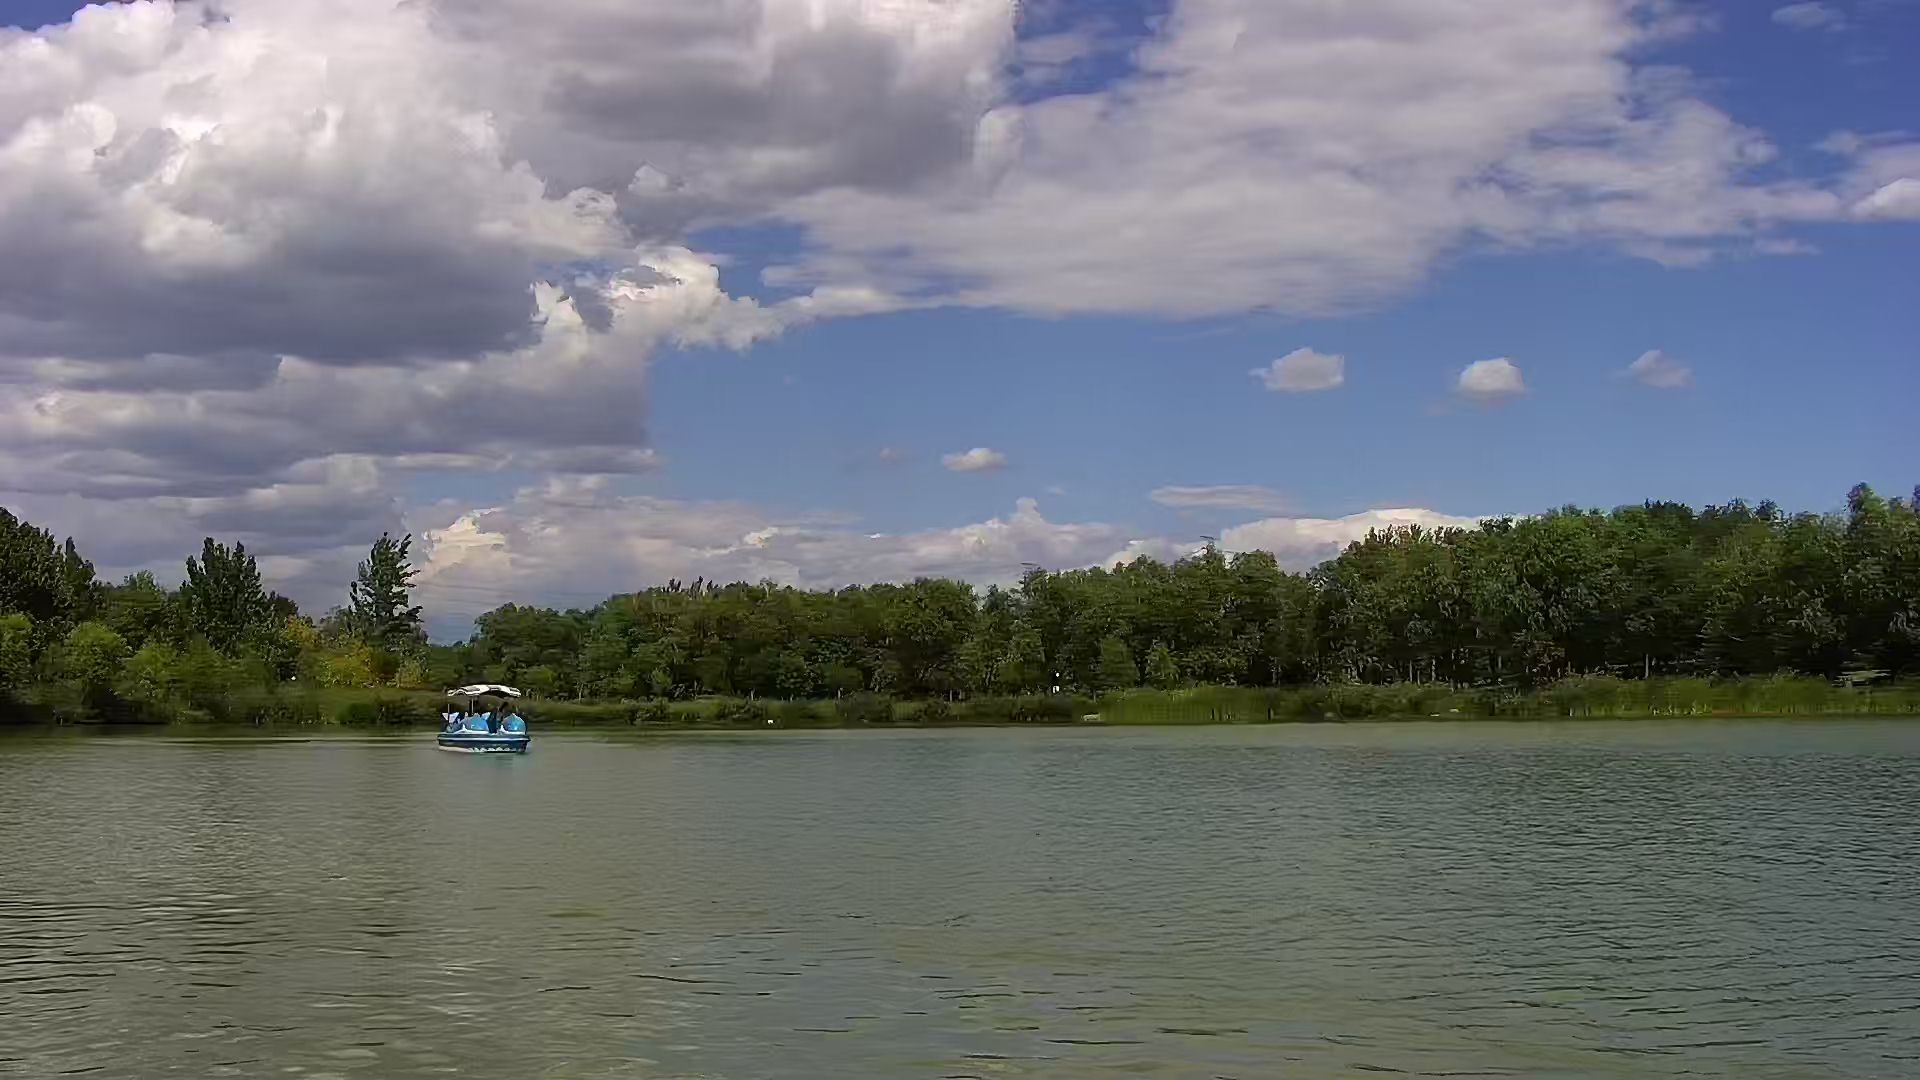boat: (438, 683, 531, 771)
